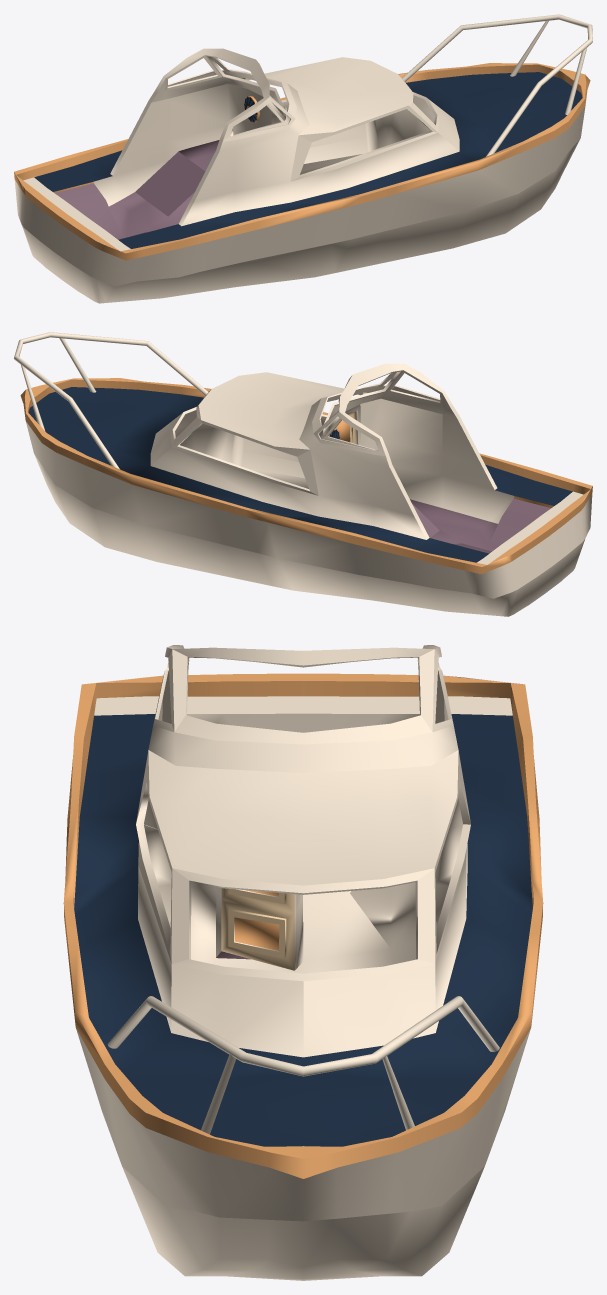
The model's file is boat.fbx.
The picture shows the model from 3 angles, top to bottom: view 1: azimuth 30°, elevation 25°; view 2: azimuth 150°, elevation 25°; view 3: azimuth 270°, elevation 25°; orthographic projection. The views are drawn at different scales.
Visible parts, largest first — view 1: boat, frame; view 2: boat, frame; view 3: boat, frame.
Boxes of the visible parts, bbox=[...] form: boat: bbox=[14, 48, 590, 303]; frame: bbox=[402, 14, 592, 156]; boat: bbox=[20, 363, 592, 616]; frame: bbox=[14, 332, 208, 469]; boat: bbox=[63, 645, 543, 1280]; frame: bbox=[107, 996, 499, 1134].
Bounding box in the file's own units: 1197 × 424 × 466.
